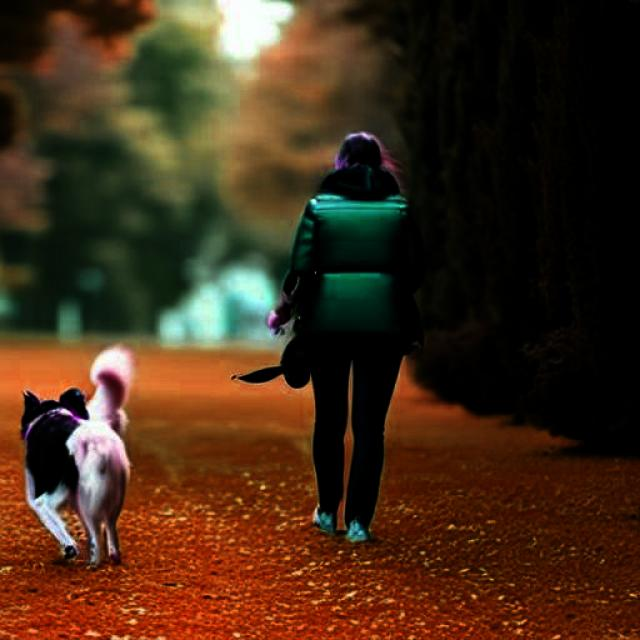Unleashed_Dog: (21, 343, 404, 568)
